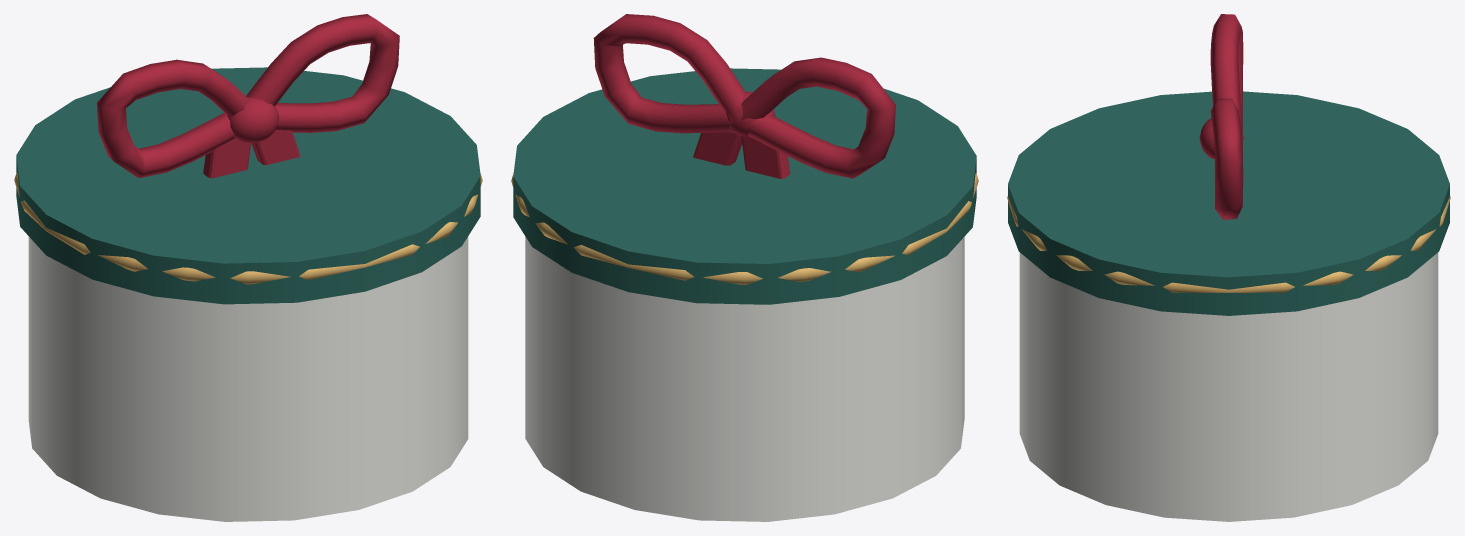
File: christmas-storybook-round-hatbox-69f47e00__18748.glb
3 renders of one model, left to right at view 1: azimuth 30°, elevation 25°; view 2: azimuth 150°, elevation 25°; view 3: azimuth 270°, elevation 25°, orthographic. The views are drawn at different scales.
Visible parts, largest first — view 1: cream, pine, berry, brass; view 2: cream, pine, berry, brass; view 3: cream, pine, berry, brass.
Boxes of the visible parts, x1,y1,x2,y2 form: cream: (28, 236, 468, 521); pine: (16, 67, 480, 304); berry: (97, 14, 399, 178); brass: (14, 173, 482, 284); cream: (525, 237, 964, 521); pine: (513, 68, 976, 304); berry: (593, 14, 895, 178); brass: (511, 173, 978, 284); cream: (1019, 252, 1438, 521); pine: (1008, 91, 1449, 315); berry: (1199, 14, 1243, 219); brass: (1007, 196, 1450, 292).
Size of the model in its own units: 0.572 by 0.5212 by 0.572.
